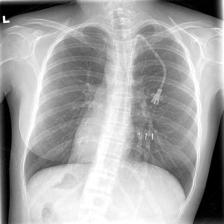normal: (18, 18, 205, 216)
